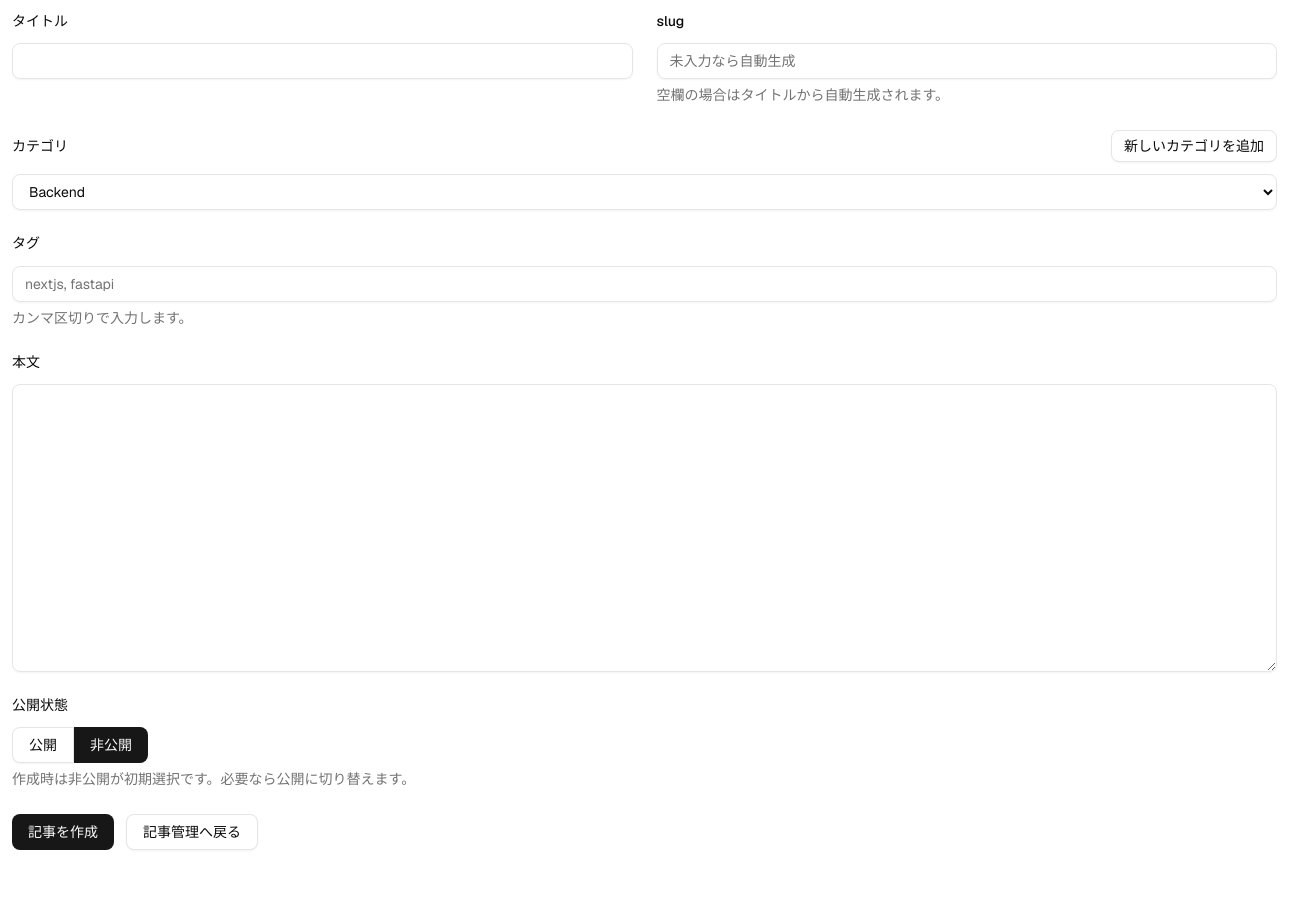
Scenario: CreateArticleForm › 不正な slug を入力すると slug のエラーを表示する
The image size is (1292, 912).
In the field labelled "slug": coordinates (967, 61) [656,43,1277,79], type "Invalid Slug"
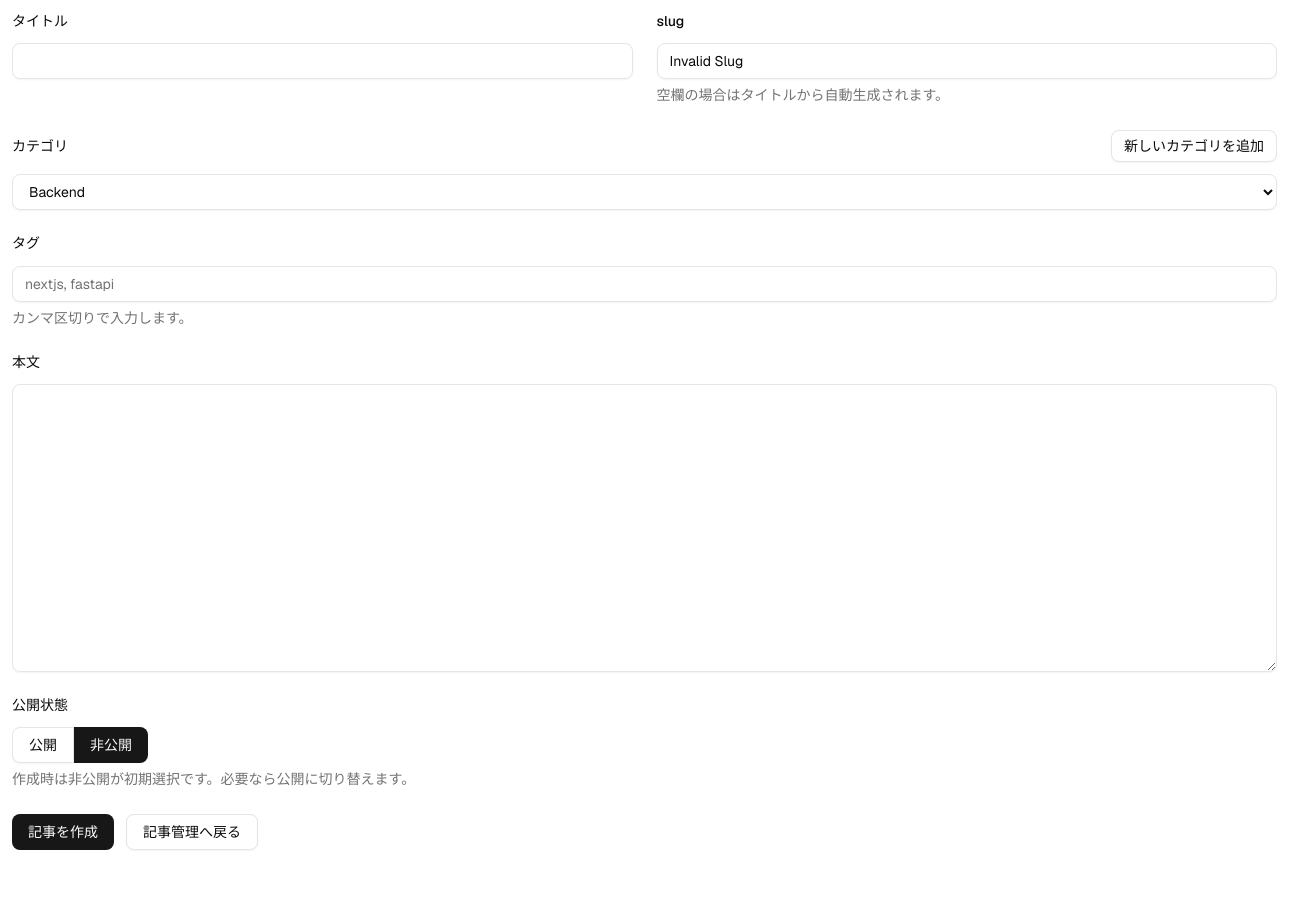
Leave the field labelled "slug", box [656,43,1277,79]
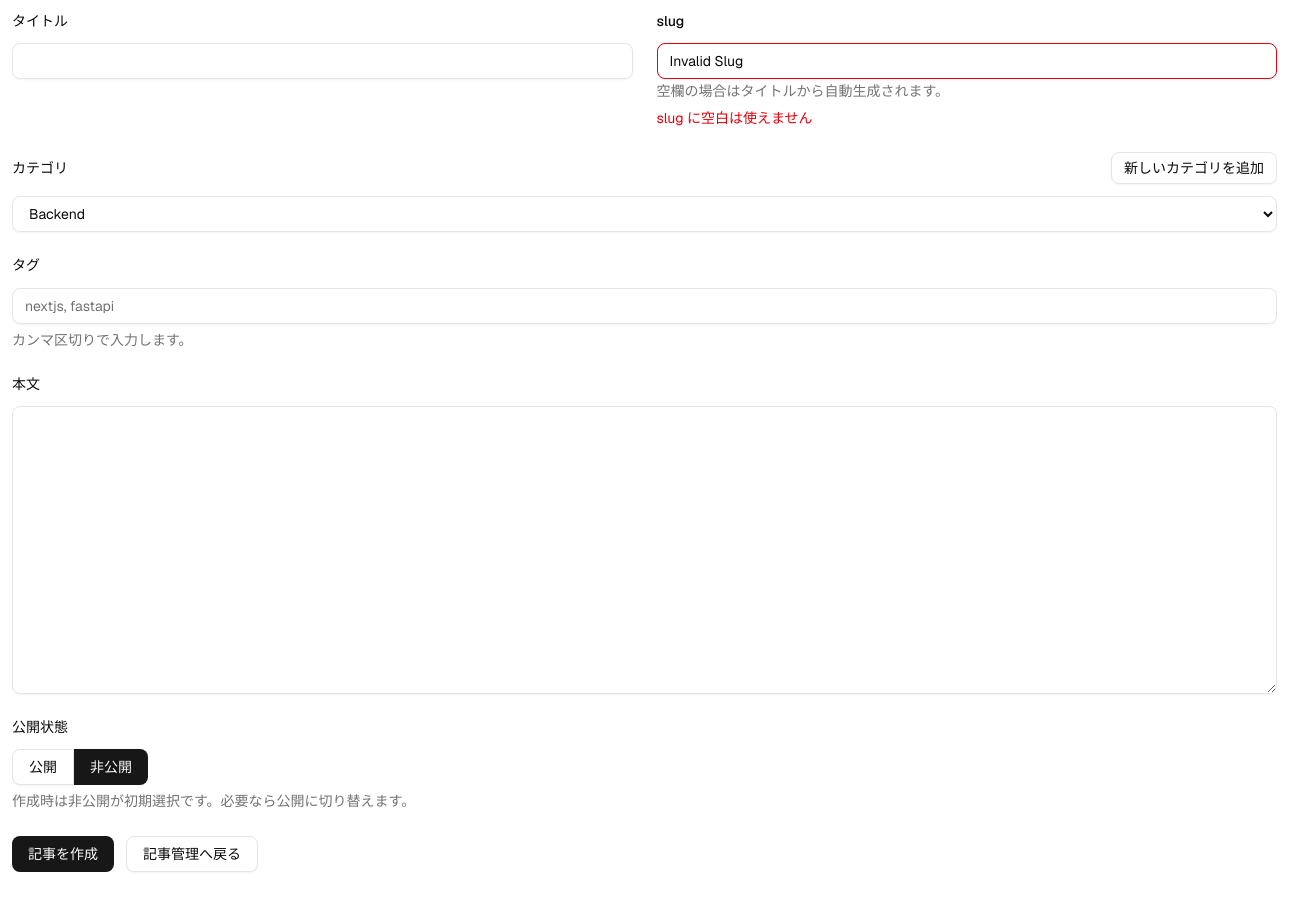
Expected: the text "slug に空白は使えません" is shown, [656,109,813,127]
